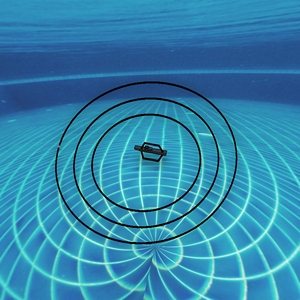circle: (53, 61, 249, 256)
submarine: (132, 145, 166, 162)
